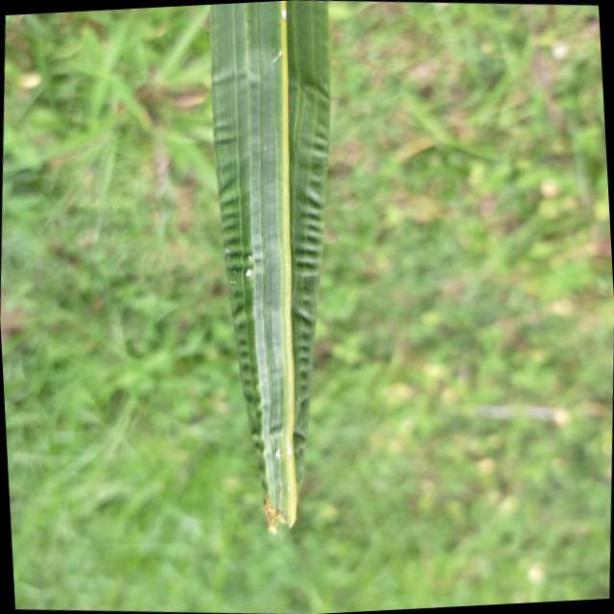Boron: (206, 0, 336, 547)
